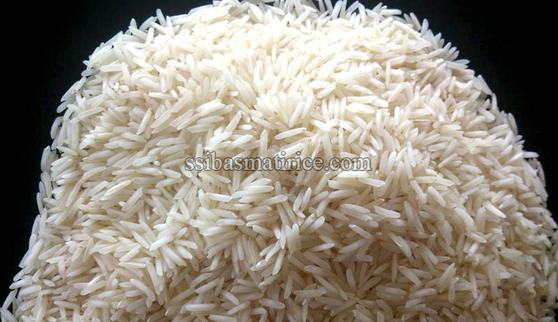rice: (102, 24, 486, 300)
